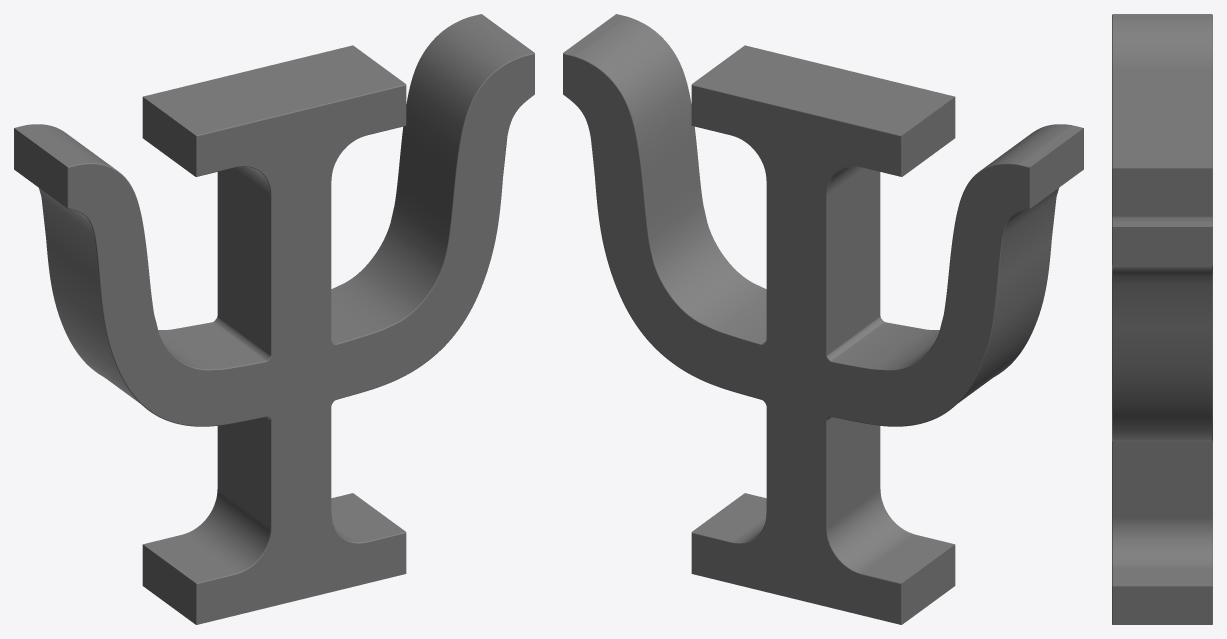
Rendered from psico.glb.
The picture shows the model from 3 angles, left to right: view 1: azimuth 30°, elevation 25°; view 2: azimuth 150°, elevation 25°; view 3: azimuth 270°, elevation 25°; orthographic projection. The views are drawn at different scales.
Parts seen in each view (by area): view 1: node_id3; view 2: node_id3; view 3: node_id3.
Part boxes in pixels (x1=…): node_id3: x1=14, y1=14, x2=534, y2=624; node_id3: x1=563, y1=14, x2=1083, y2=624; node_id3: x1=1112, y1=14, x2=1212, y2=624.
Size of the model in its own units: 0.512 by 0.512 by 0.1024.
Materials: 1 (1 with a texture image).
